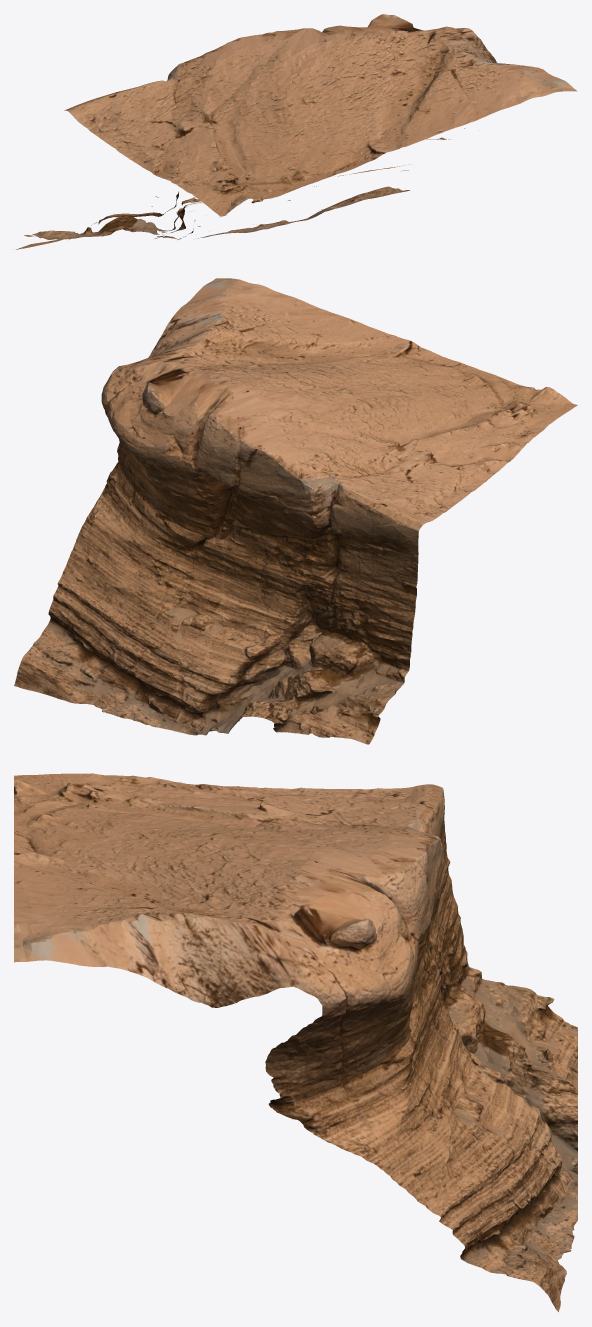
The picture shows the model from 3 angles, top to bottom: view 1: azimuth 30°, elevation 25°; view 2: azimuth 150°, elevation 25°; view 3: azimuth 270°, elevation 25°; orthographic projection. The views are drawn at different scales.
Size of the model in its own units: 8.36 by 5.92 by 8.36.
Materials: 3 (3 with a texture image).
